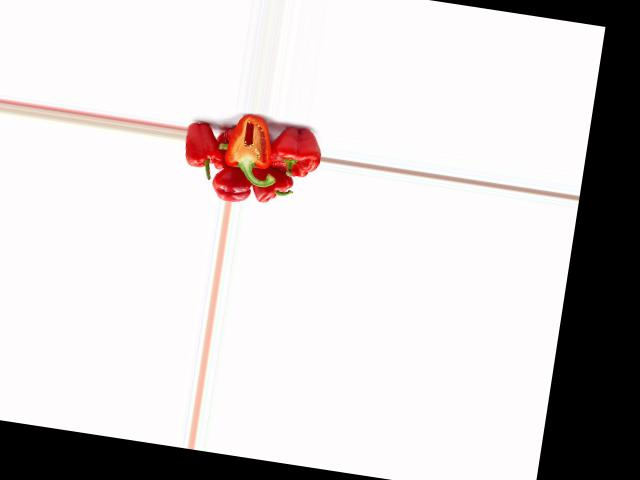bell_pepper: (248, 166, 296, 207)
